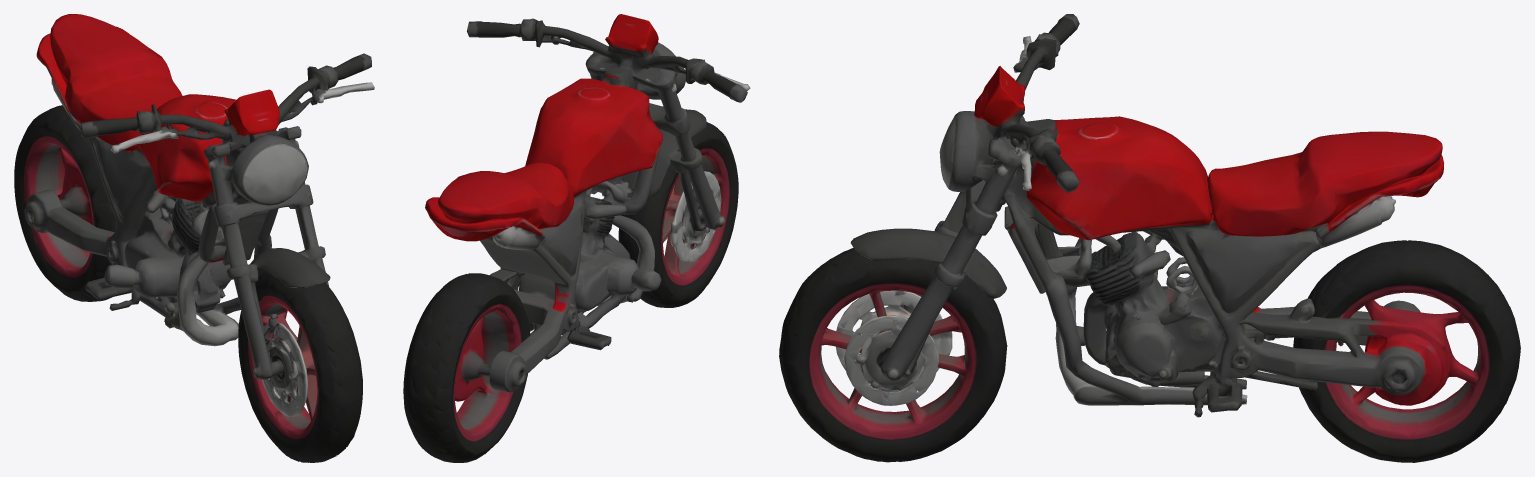
Rendered from motorcycle-standard.glb.
3 views of the same model, side by side, from view 1: azimuth 30°, elevation 25°; view 2: azimuth 150°, elevation 25°; view 3: azimuth 270°, elevation 25° (orthographic). The views are drawn at different scales.
Parts seen in each view (by area): view 1: tripo_node_3c3ae599-814e-4952-9e14-84bab88e4d90; view 2: tripo_node_3c3ae599-814e-4952-9e14-84bab88e4d90; view 3: tripo_node_3c3ae599-814e-4952-9e14-84bab88e4d90.
Part boxes in pixels (x1,y1,x2,y2): tripo_node_3c3ae599-814e-4952-9e14-84bab88e4d90: (14,14,374,462); tripo_node_3c3ae599-814e-4952-9e14-84bab88e4d90: (403,14,750,462); tripo_node_3c3ae599-814e-4952-9e14-84bab88e4d90: (779,14,1520,462).
Size of the model in its own units: 1.1 by 1.2 by 2.1.
1 material, 1 textured.
